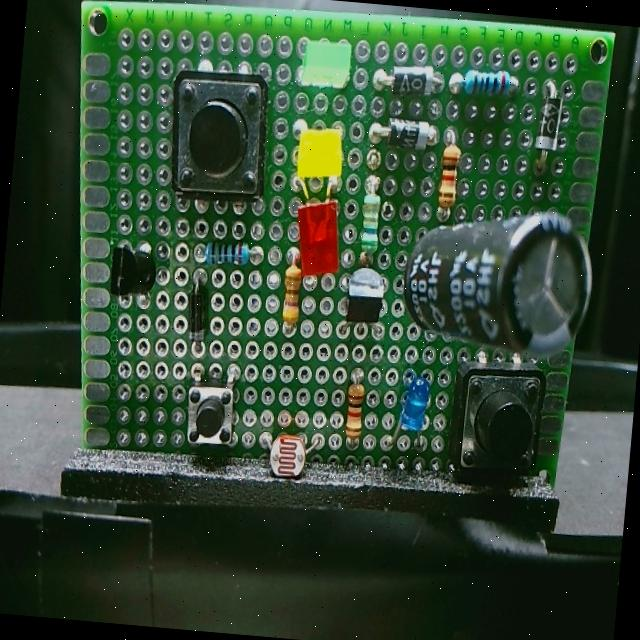Electrolytic capacitor: (395, 200, 602, 361)
cds: (260, 428, 315, 498)
diode: (534, 86, 566, 163), (180, 268, 208, 356), (377, 112, 438, 150), (389, 61, 438, 102)
led: (290, 184, 343, 276), (296, 32, 354, 97), (392, 374, 440, 452), (291, 126, 345, 182)
resistor: (430, 129, 470, 223), (450, 62, 518, 108), (351, 168, 382, 266), (335, 368, 369, 450), (275, 256, 308, 340), (199, 231, 252, 267)
switch: (166, 61, 276, 204), (446, 361, 556, 484), (179, 370, 247, 466)
transistor: (102, 231, 168, 306), (337, 262, 389, 324)
